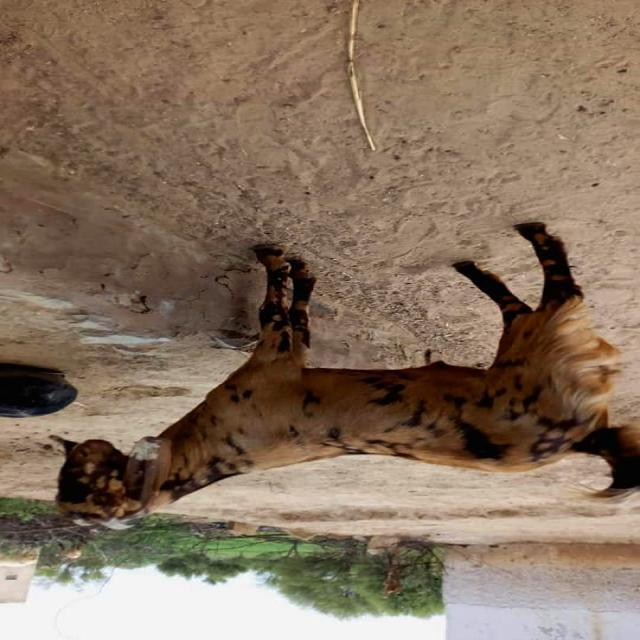Goat: (51, 223, 639, 531), (0, 546, 40, 568), (56, 540, 84, 560)
